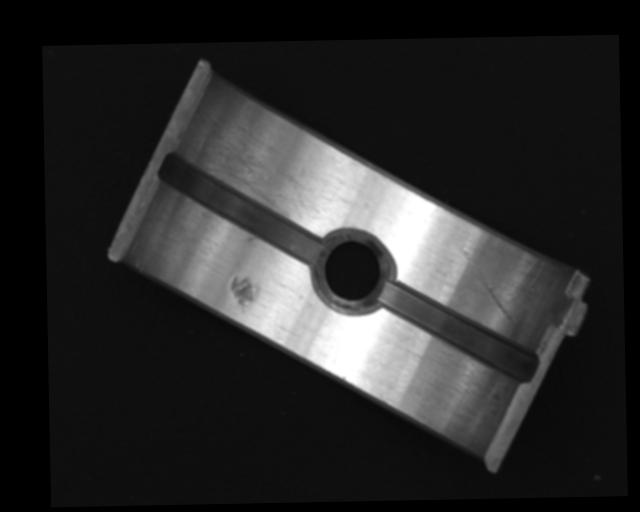bruise: (229, 275, 257, 315)
gap: (157, 150, 324, 268), (379, 278, 537, 386)
hole: (313, 230, 389, 315)
nick: (458, 244, 514, 324)
scratch: (196, 113, 319, 226)
